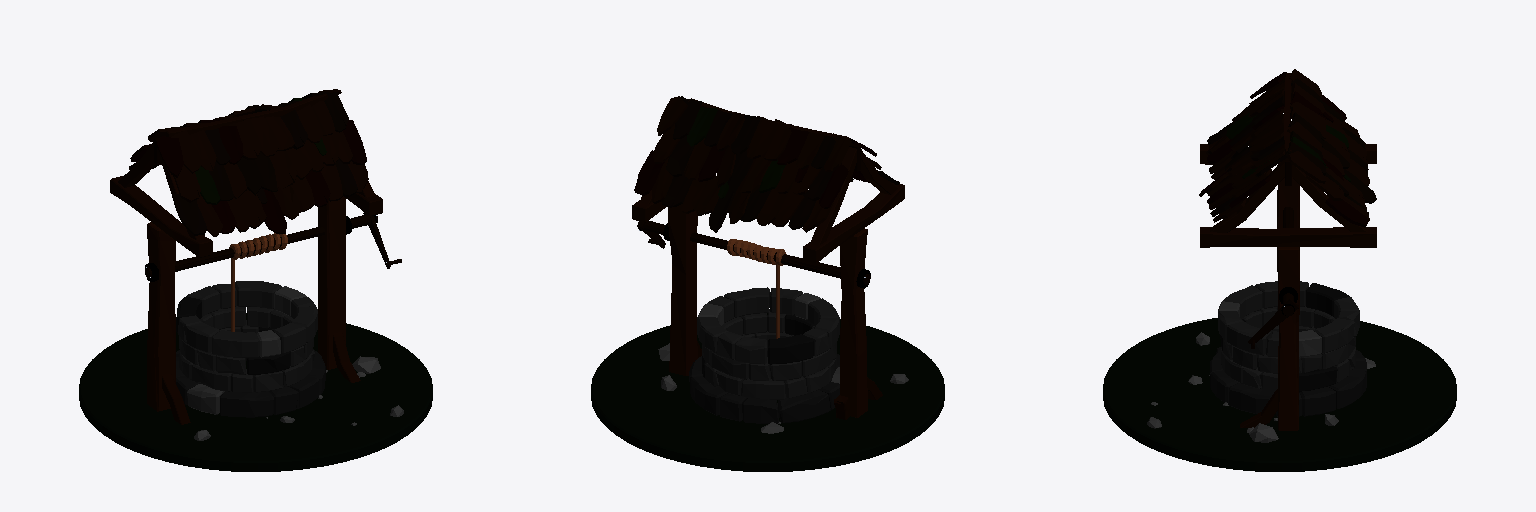
The model's file is lowpoly_well.obj.
The picture shows the model from 3 angles: view 1: azimuth 30°, elevation 25°; view 2: azimuth 150°, elevation 25°; view 3: azimuth 270°, elevation 25°; orthographic projection.
Parts seen in each view (by area): view 1: Cylinder.007, Plane.093_Plane.100, Cube.003, Cube.005_Cube.009, Cube.004, Cube, Cube.002, Cube.001, Cube.007_Cube.008, Cylinder, Cube.014_Cube.019, Plane.036_Plane.106 (+4 smaller); view 2: Cylinder.007, Plane.036_Plane.106, Cube.003, Cube.005_Cube.009, Cube.004, Cube, Cube.002, Cube.001, Cube.007_Cube.008, Cylinder, Cube.013_Cube.018, Cylinder.005 (+1 smaller); view 3: Cylinder.007, Plane.036_Plane.106, Plane.093_Plane.100, Cube.003, Cube, Cube.004, Cube.006_Cube.007, Cube.002, Cube.001, Cube.009_Cube.011, Cube.008_Cube.015, Cube.005_Cube.009 (+1 smaller).
Boxes of the visible parts, box(x1,y1,x2,y2) form: Cylinder.007: box(79, 313, 432, 471); Plane.093_Plane.100: box(156, 92, 368, 236); Cube.003: box(176, 281, 317, 357); Cube.005_Cube.009: box(147, 222, 175, 411); Cube.004: box(318, 196, 345, 369); Cube: box(176, 349, 325, 417); Cube.002: box(179, 306, 313, 374); Cube.001: box(179, 320, 314, 392); Cube.007_Cube.008: box(110, 176, 212, 257); Cylinder: box(145, 214, 377, 278); Cube.014_Cube.019: box(166, 93, 327, 136); Plane.036_Plane.106: box(129, 89, 341, 169); Cylinder.007: box(591, 313, 944, 471); Plane.036_Plane.106: box(634, 96, 851, 232); Cube.003: box(697, 287, 839, 364); Cube.005_Cube.009: box(840, 228, 867, 417); Cube.004: box(668, 204, 697, 375); Cube: box(689, 351, 839, 423); Cube.002: box(702, 309, 836, 380); Cube.001: box(702, 331, 836, 399); Cube.007_Cube.008: box(803, 183, 904, 263); Cylinder: box(637, 220, 870, 284); Cube.013_Cube.018: box(810, 147, 856, 245); Cylinder.005: box(727, 239, 786, 265); Cylinder.007: box(1103, 318, 1456, 471); Plane.036_Plane.106: box(1286, 69, 1376, 227); Plane.093_Plane.100: box(1199, 72, 1288, 222); Cube.003: box(1218, 281, 1359, 356); Cube: box(1210, 347, 1366, 416); Cube.004: box(1278, 247, 1299, 430); Cube.006_Cube.007: box(1200, 227, 1376, 247); Cube.002: box(1220, 306, 1355, 373); Cube.001: box(1221, 325, 1355, 391); Cube.009_Cube.011: box(1210, 160, 1284, 232); Cube.008_Cube.015: box(1292, 165, 1367, 231); Cube.005_Cube.009: box(1277, 177, 1299, 271).
Bounding box in the file's own units: 32.44 × 29.18 × 32.44.